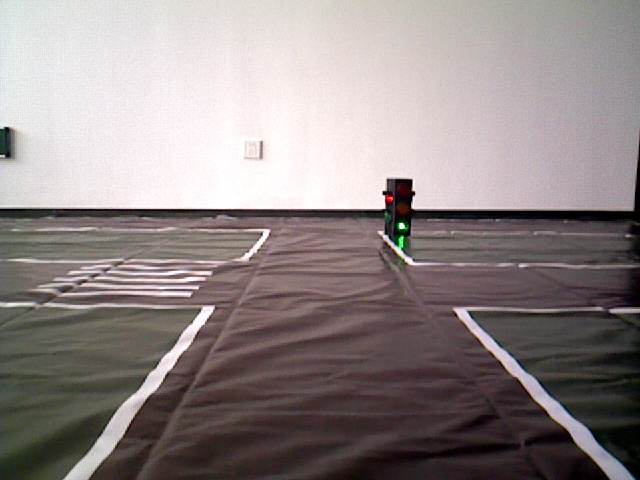green: (385, 180, 410, 231)
